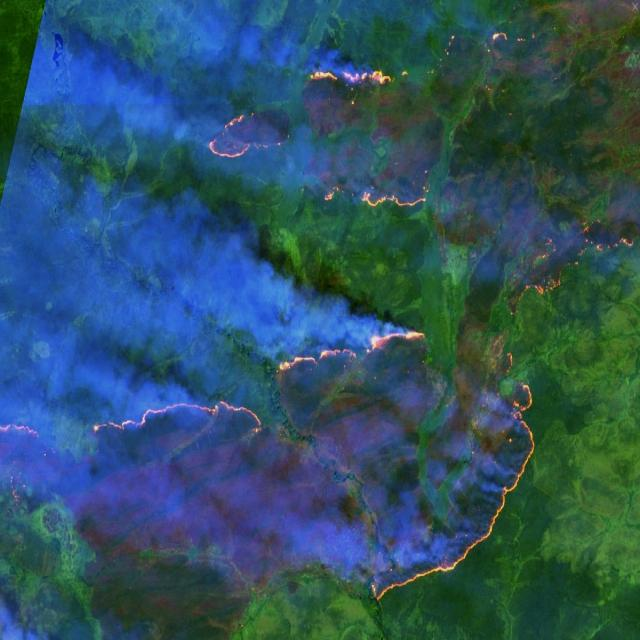fire: (0, 325, 540, 640), (194, 25, 640, 303)
